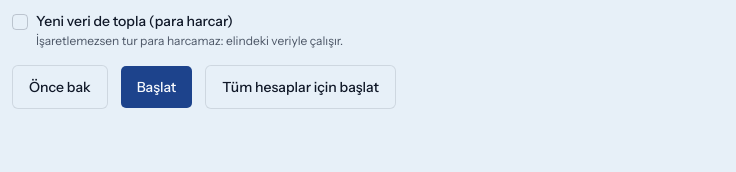
Scenario: RoutineStarter: haftalık tur › 'Tüm hesaplar için başlat' yalnız birden çok hesap varken çizilir; sonucu düz dille yazar
Click the button "Tüm hesaplar için başlat" at (301, 87), box x1=205 y1=65 x2=396 y2=109
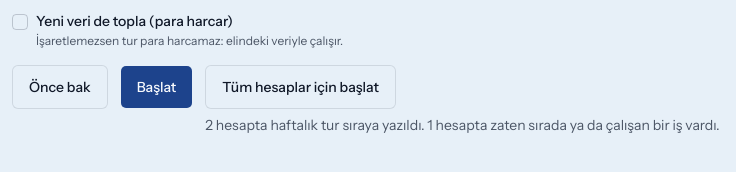
Now the text "2 hesapta haftalık tur sıraya yazıldı. 1 hesapta zaten sırada ya da çalışan bir iş vardı." is shown, box x1=205 y1=116 x2=720 y2=134
